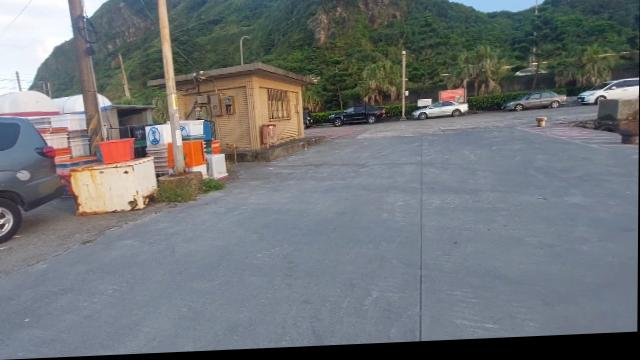pollute: (56, 157, 98, 199), (144, 124, 173, 179), (95, 140, 135, 166), (182, 144, 208, 183), (206, 156, 230, 183), (180, 122, 204, 143), (211, 143, 221, 155)
